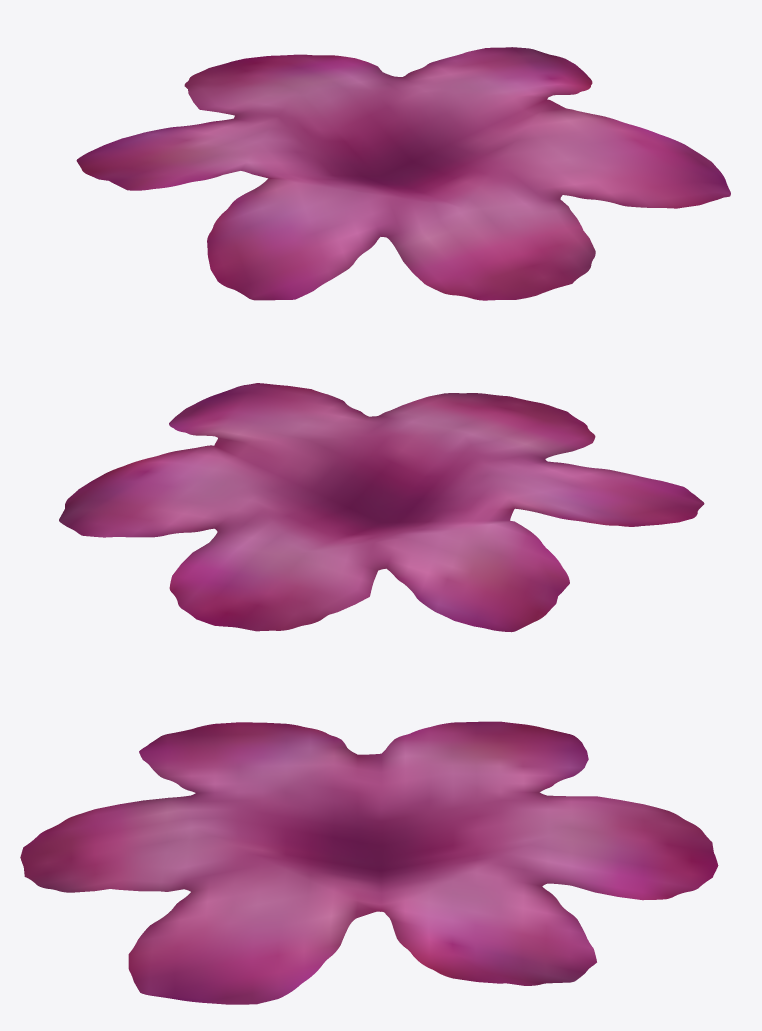
The model's file is Flower03.glb.
The picture shows the model from 3 angles, top to bottom: view 1: azimuth 30°, elevation 25°; view 2: azimuth 150°, elevation 25°; view 3: azimuth 270°, elevation 25°; orthographic projection. The views are drawn at different scales.
Visible parts, largest first — view 1: Flower03; view 2: Flower03; view 3: Flower03.
Part boxes in pixels (box(x1,y1,x2,y2)): Flower03: box(76, 47, 730, 300); Flower03: box(59, 383, 704, 632); Flower03: box(20, 721, 718, 1004).
Bounding box in the file's own units: 0.6029 × 0.0375 × 0.6029.
Materials: 1 (1 with a texture image).
